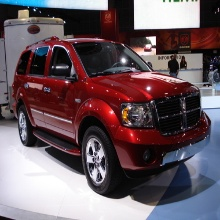no damage: (10, 35, 213, 196)
